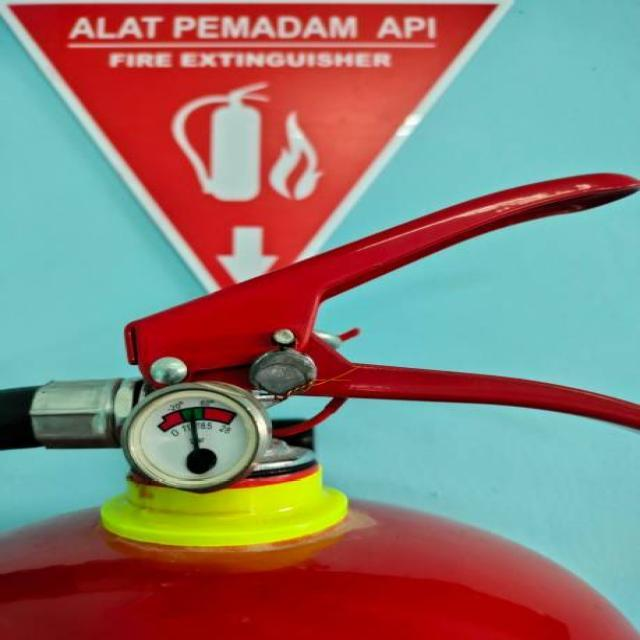pressure gauge: (121, 382, 270, 490)
